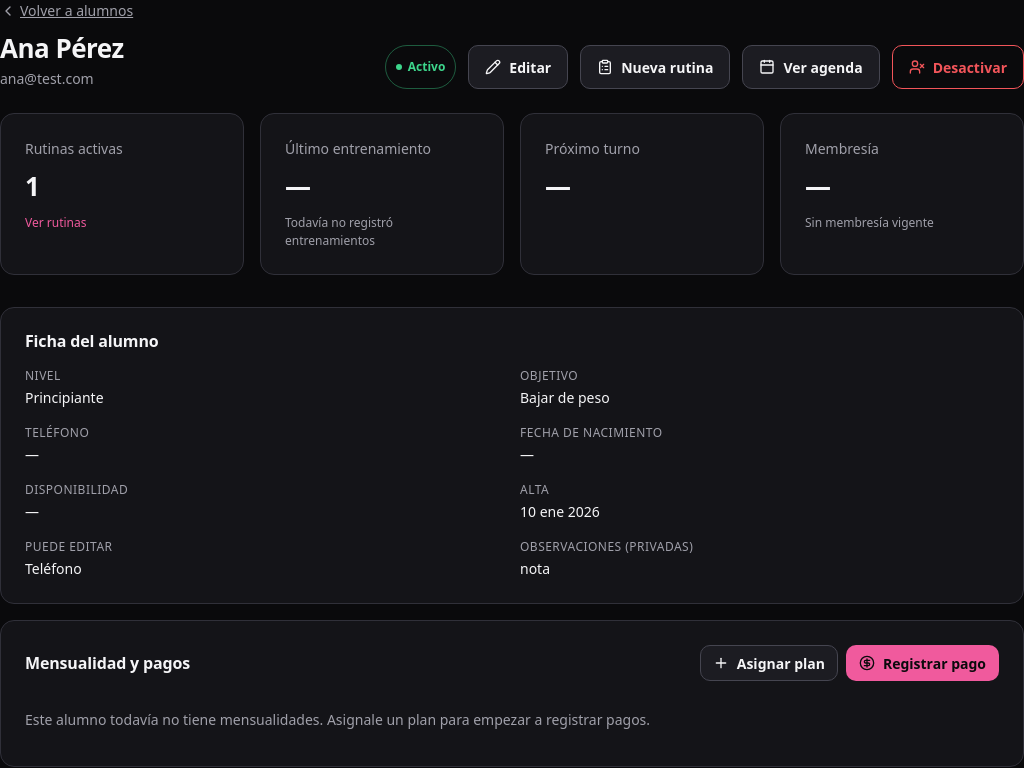
Test case: ficha del alumno › desactivar exige confirmación y avisa que no se borra el historial
Click the button "Desactivar".
click(958, 67)  # box left=892, top=45, right=1023, bottom=89
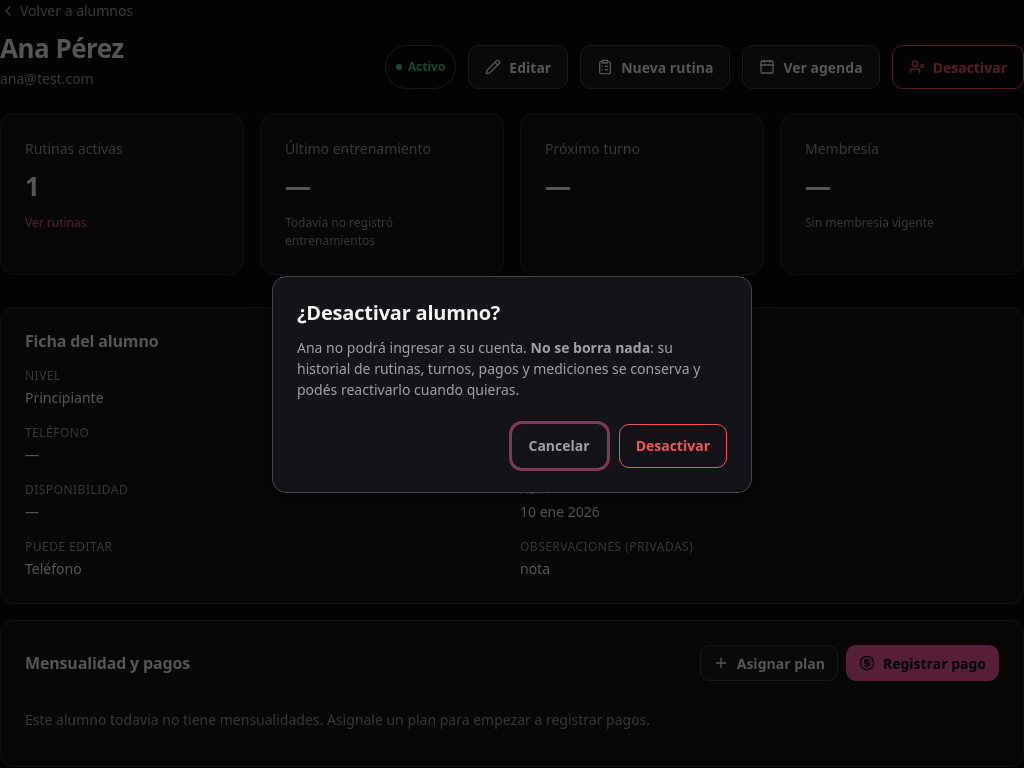
Check: the text "No se borra nada" is shown, box left=530, top=338, right=650, bottom=356
Click the button "Cancelar".
click(559, 446)  # box left=512, top=424, right=607, bottom=468
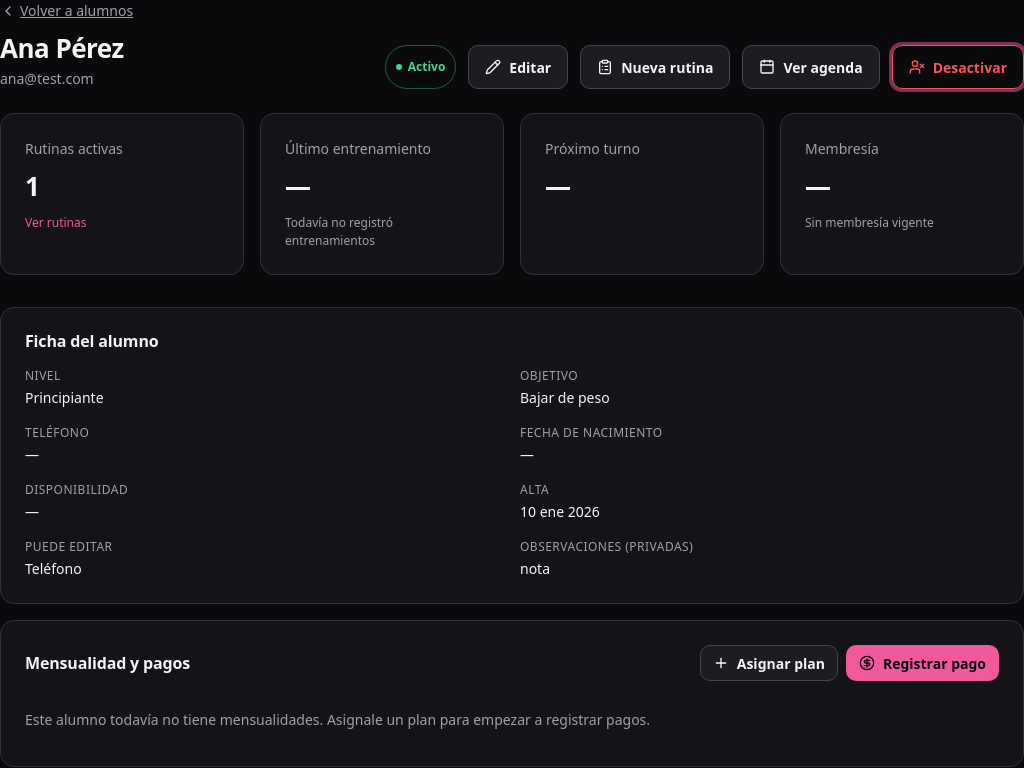
Click the button "Desactivar".
click(958, 67)  # box left=892, top=45, right=1023, bottom=89
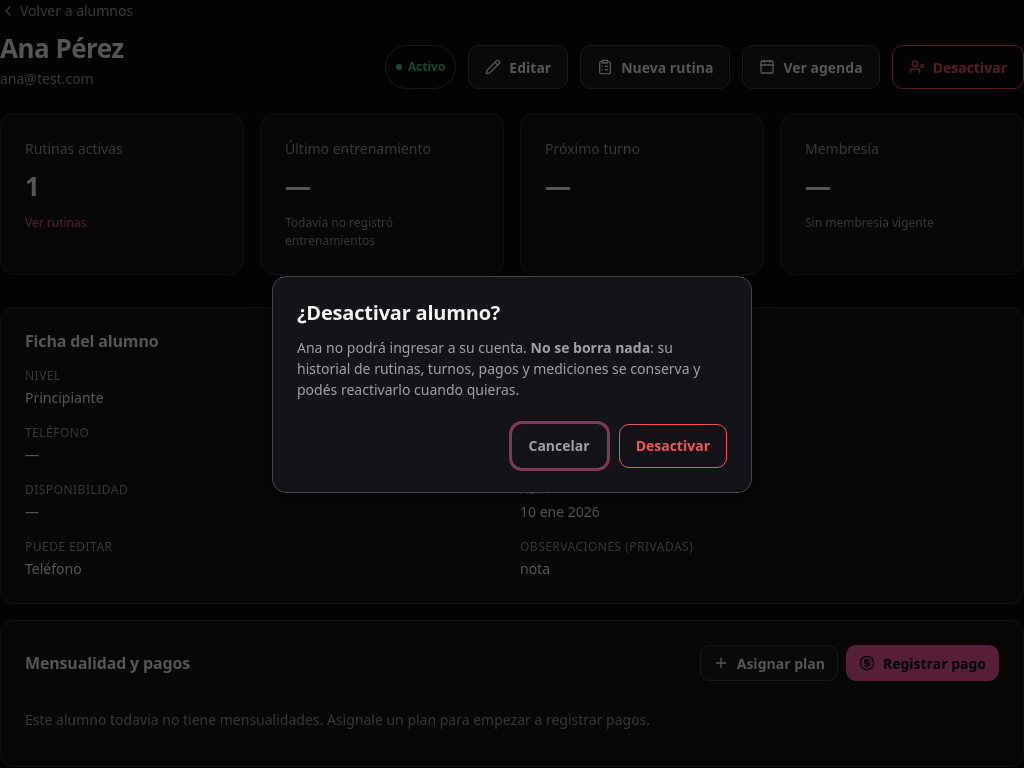
Click the button "Desactivar".
click(673, 446)  # box left=619, top=424, right=727, bottom=468
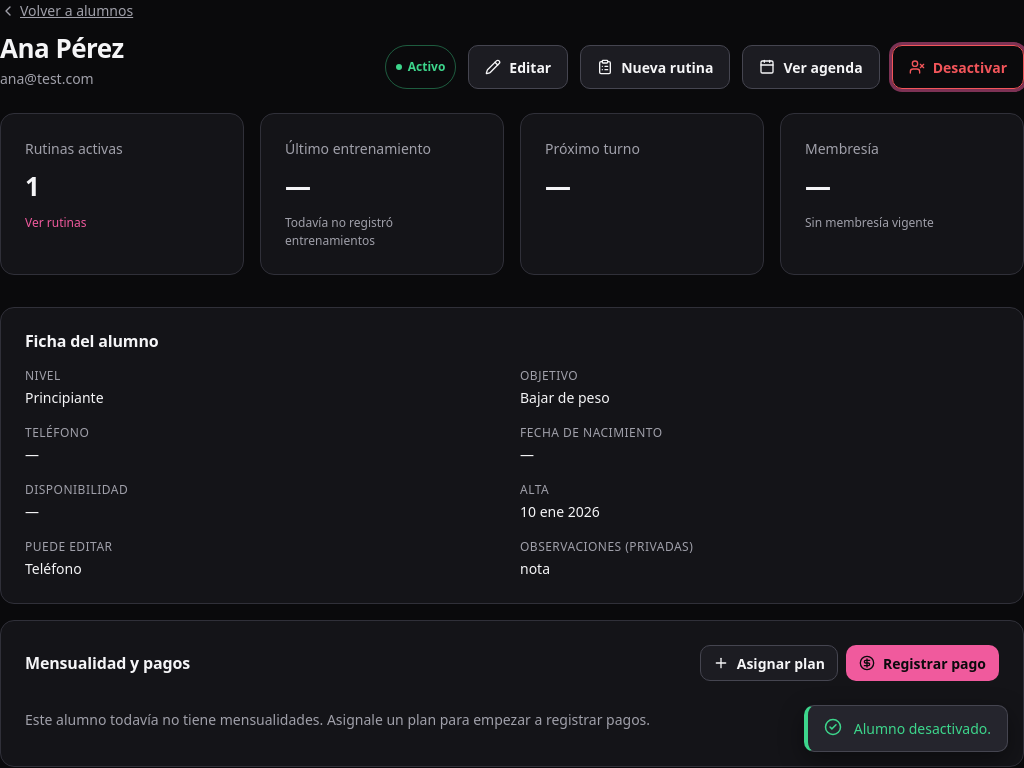
Check: the text "Alumno desactivado." is shown, box left=804, top=705, right=1008, bottom=752
